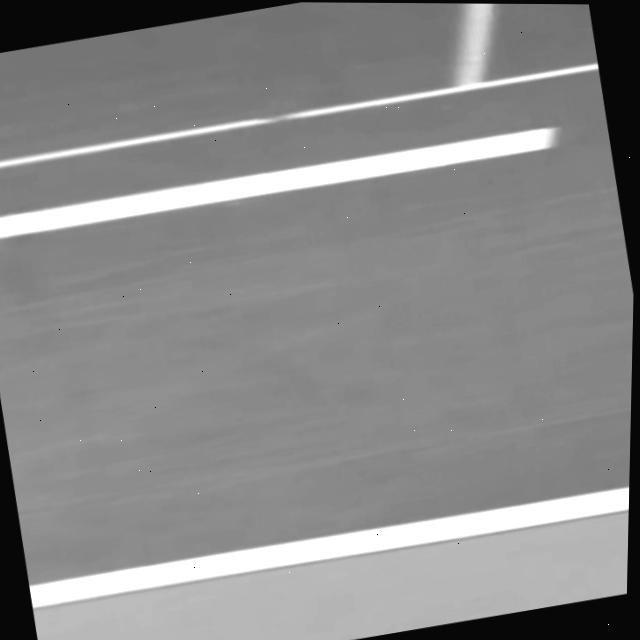center: (0, 127, 559, 235)
right: (29, 484, 629, 607)
